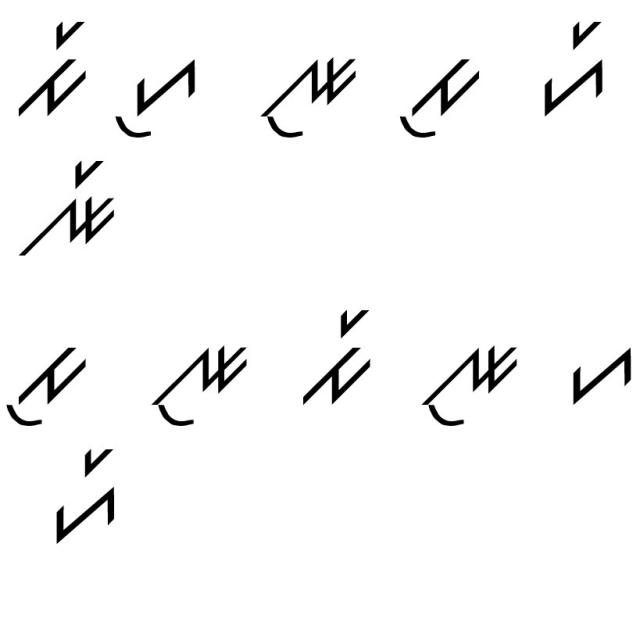ha: (564, 334, 634, 410)
har: (533, 13, 614, 118), (47, 448, 126, 543)
haw: (110, 50, 206, 145)
mbar: (296, 303, 381, 414), (5, 14, 94, 120)
mbaw: (390, 44, 484, 140), (5, 334, 94, 434)
ndar: (16, 152, 125, 263)
ndaw: (415, 334, 522, 433), (148, 331, 253, 430), (256, 52, 366, 142)
